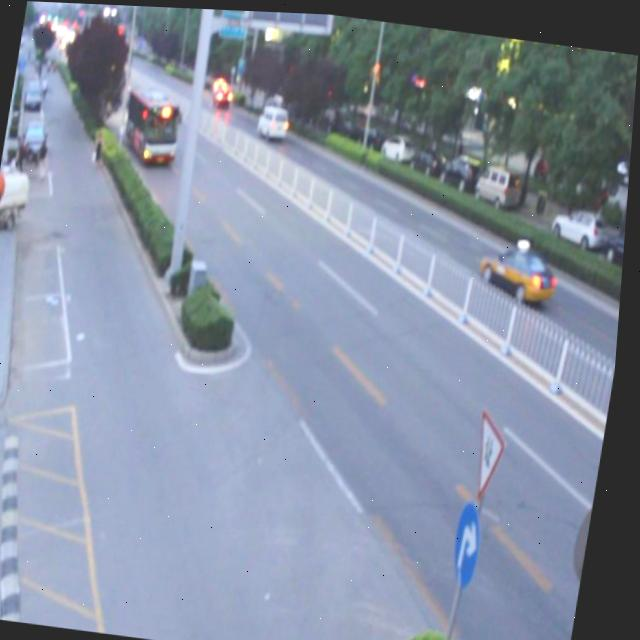car: (476, 232, 564, 303)
truck: (256, 101, 291, 138)
van: (120, 81, 186, 166)
